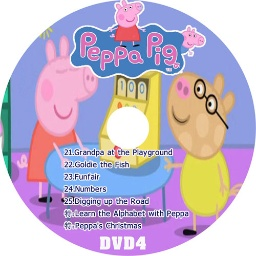Peppa: (15, 34, 95, 202), (110, 1, 144, 49)
